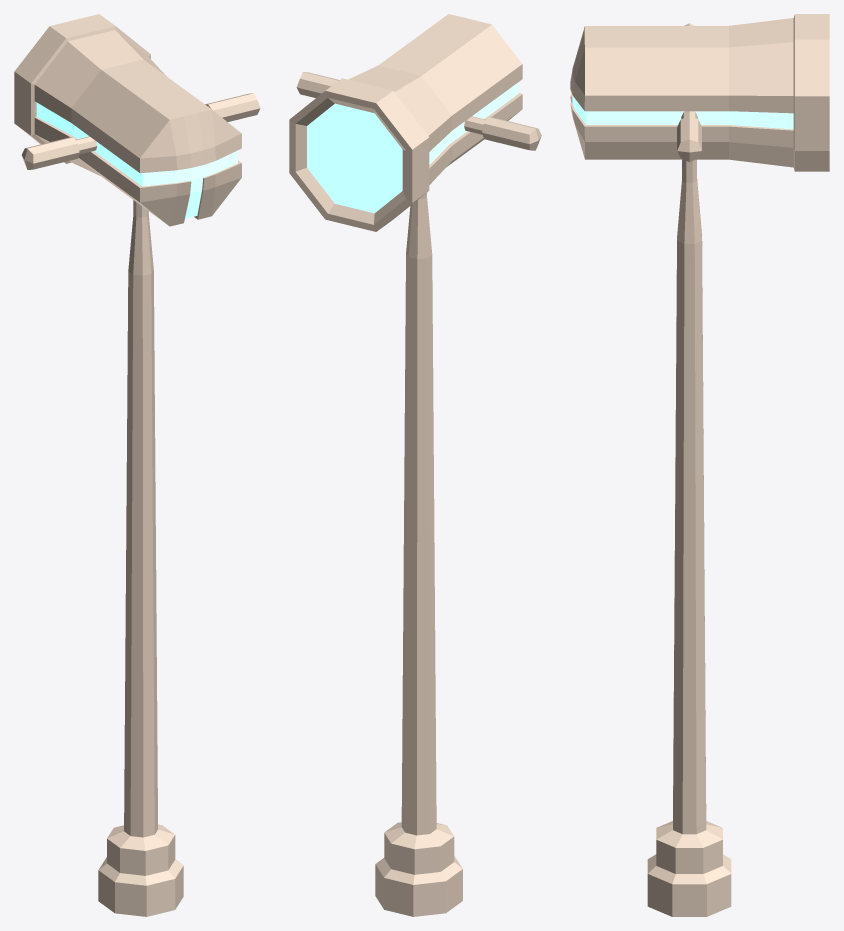
Rendered from Spotlight.fbx.
3 renders of one model, left to right at view 1: azimuth 30°, elevation 25°; view 2: azimuth 150°, elevation 25°; view 3: azimuth 270°, elevation 25°, orthographic. The views are drawn at different scales.
Visible parts, largest first — view 1: SpotLight_LOD0, Spotlight_Stand_LOD0; view 2: SpotLight_LOD0, Spotlight_Stand_LOD0; view 3: SpotLight_LOD0, Spotlight_Stand_LOD0.
Part boxes in pixels (x1,y1,x2,y2): SpotLight_LOD0: [14, 14, 260, 226]; Spotlight_Stand_LOD0: [98, 200, 183, 916]; SpotLight_LOD0: [289, 14, 541, 231]; Spotlight_Stand_LOD0: [375, 193, 462, 916]; SpotLight_LOD0: [570, 14, 829, 171]; Spotlight_Stand_LOD0: [647, 159, 731, 916].
Size of what is drawn, in the model's own units: 0.391 by 1.33 by 0.3586.
